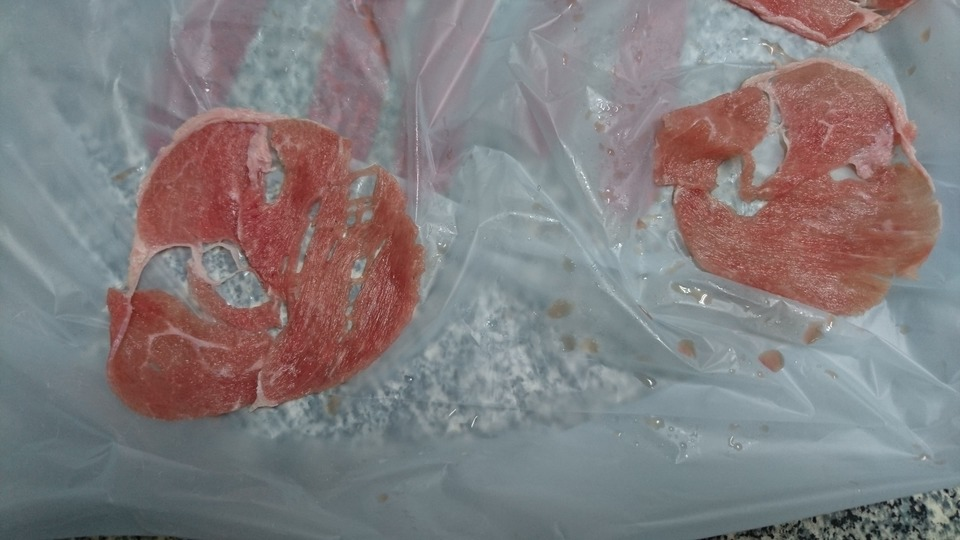restructured meat: (97, 114, 440, 417), (653, 55, 941, 320), (731, 5, 926, 47)
